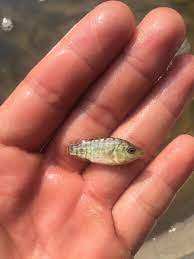fish: (71, 137, 147, 162)
